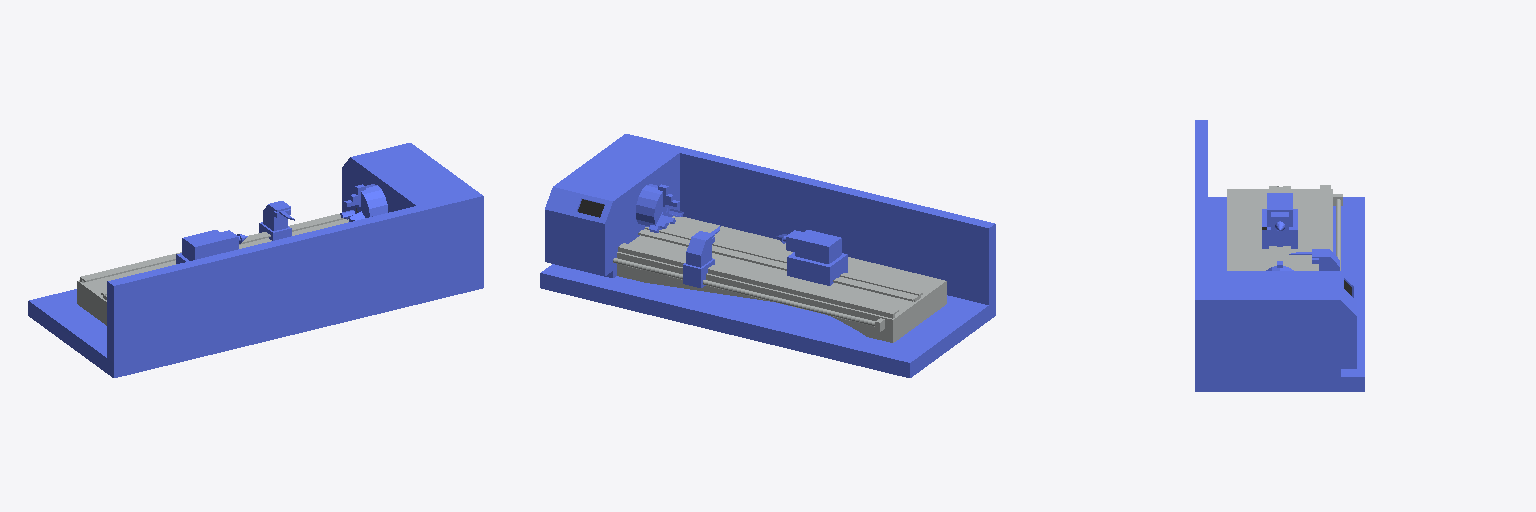
3 renders of one model, left to right at view 1: azimuth 30°, elevation 25°; view 2: azimuth 150°, elevation 25°; view 3: azimuth 270°, elevation 25°, orthographic.
Parts seen in each view (by area): view 1: Frame, Mechanics, Gantry; view 2: Frame, Gantry, Mechanics; view 3: Frame, Gantry, Mechanics.
Boxes of the visible parts, x1=… form: Frame: x1=28, y1=143, x2=483, y2=377; Mechanics: x1=176, y1=184, x2=387, y2=263; Gantry: x1=77, y1=214, x2=348, y2=325; Frame: x1=540, y1=134, x2=995, y2=377; Gantry: x1=613, y1=216, x2=946, y2=342; Mechanics: x1=636, y1=184, x2=847, y2=287; Frame: x1=1195, y1=120, x2=1364, y2=391; Gantry: x1=1227, y1=185, x2=1342, y2=270; Mechanics: x1=1262, y1=193, x2=1339, y2=270.
Bounding box in the file's own units: 4 × 0.9559 × 1.6.
Materials: 3 (2 with a texture image).